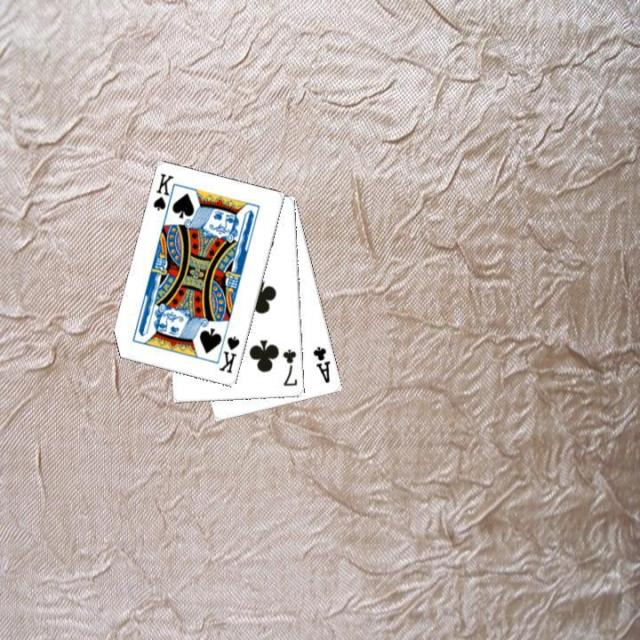7C: (279, 346, 300, 388)
AC: (310, 343, 332, 385)
KS: (149, 170, 178, 218), (215, 333, 242, 375)
